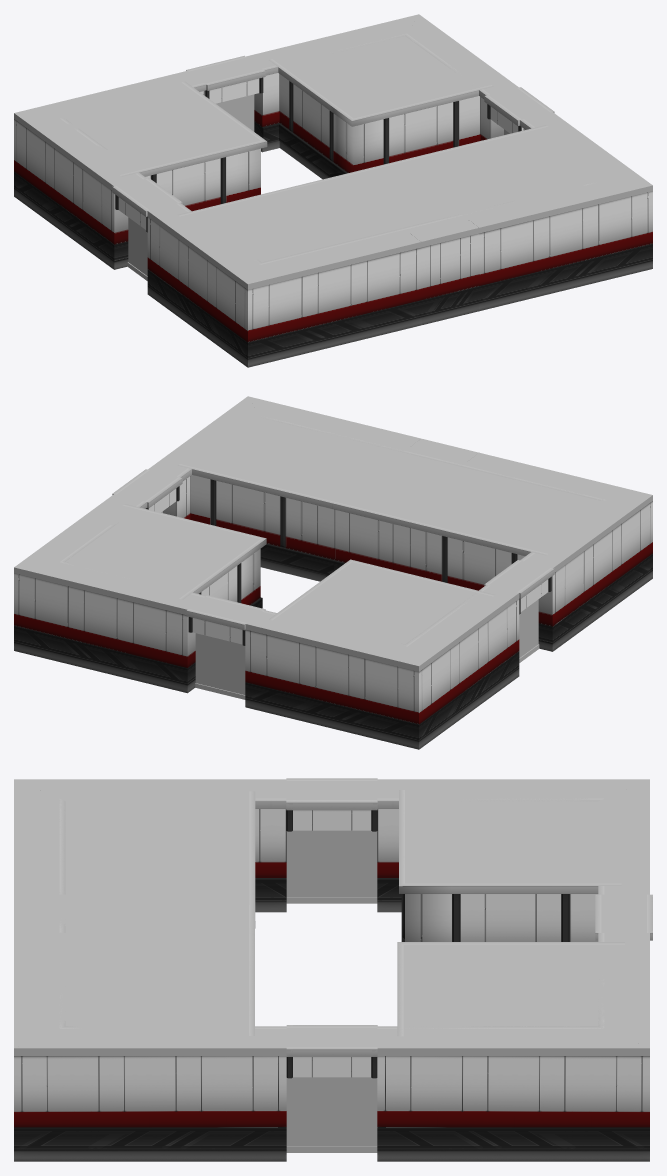
The model's file is Room13.FBX.
The picture shows the model from 3 angles, top to bottom: view 1: azimuth 30°, elevation 25°; view 2: azimuth 150°, elevation 25°; view 3: azimuth 270°, elevation 25°; orthographic projection. The views are drawn at different scales.
Parts seen in each view (by area): view 1: Wall0 (×8), Wall2 (×2), Box501, Wall1, Box058, Box324, Door1, Box326, Box061; view 2: Wall0 (×8), Box501, Wall2 (×2), Box058, Box324, Door1, Box061, Box060, Wall1, Box325; view 3: Wall0 (×8), Wall2 (×2), Box501, Door (×2), Box324, Door1, Box325, Box326, Box058, Wall1.
Boxes of the visible parts, x1,y1,x2,y2 form: Wall0 (×8): [14, 14, 652, 367]; Wall2 (×2): [43, 25, 493, 243]; Box501: [178, 125, 622, 340]; Wall1: [403, 214, 479, 324]; Box058: [186, 55, 265, 103]; Box324: [112, 178, 182, 232]; Door1: [484, 87, 554, 133]; Box326: [127, 217, 144, 278]; Box061: [225, 94, 254, 131]; Wall0 (×8): [14, 396, 652, 749]; Box501: [177, 409, 622, 625]; Wall2 (×2): [41, 504, 495, 722]; Box058: [186, 595, 265, 645]; Box324: [484, 560, 554, 614]; Door1: [112, 469, 182, 512]; Box061: [195, 633, 224, 694]; Box060: [224, 640, 245, 699]; Wall1: [403, 438, 478, 466]; Box325: [522, 599, 539, 660]; Wall0 (×8): [14, 779, 649, 1161]; Wall2 (×2): [397, 790, 624, 1036]; Box501: [45, 791, 255, 1035]; Door (×2): [286, 1077, 377, 1152]; Box324: [286, 778, 377, 831]; Door1: [286, 1025, 377, 1078]; Box325: [286, 830, 331, 903]; Box326: [332, 830, 377, 903]; Box058: [595, 894, 652, 940]; Wall1: [14, 894, 65, 932].
Size of the model in its own units: 141 by 27.57 by 141.
